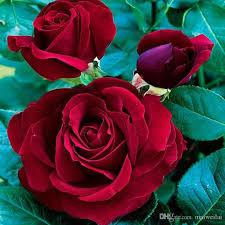Rose: (7, 82, 188, 221), (8, 0, 118, 78), (133, 24, 217, 92)
